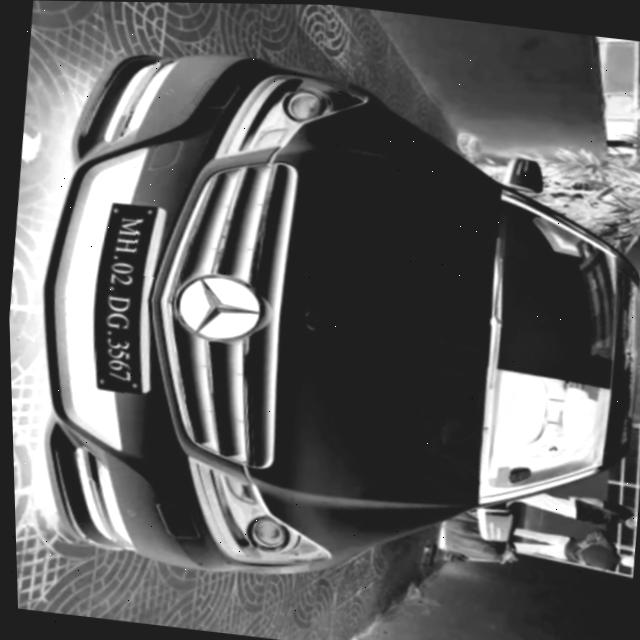Non_registered: (83, 202, 162, 396)
